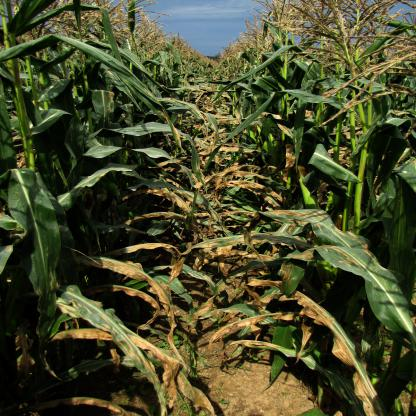corn leaf blight: (256, 279, 385, 416), (61, 283, 181, 410), (266, 240, 416, 322), (83, 255, 174, 327), (200, 314, 305, 358)
